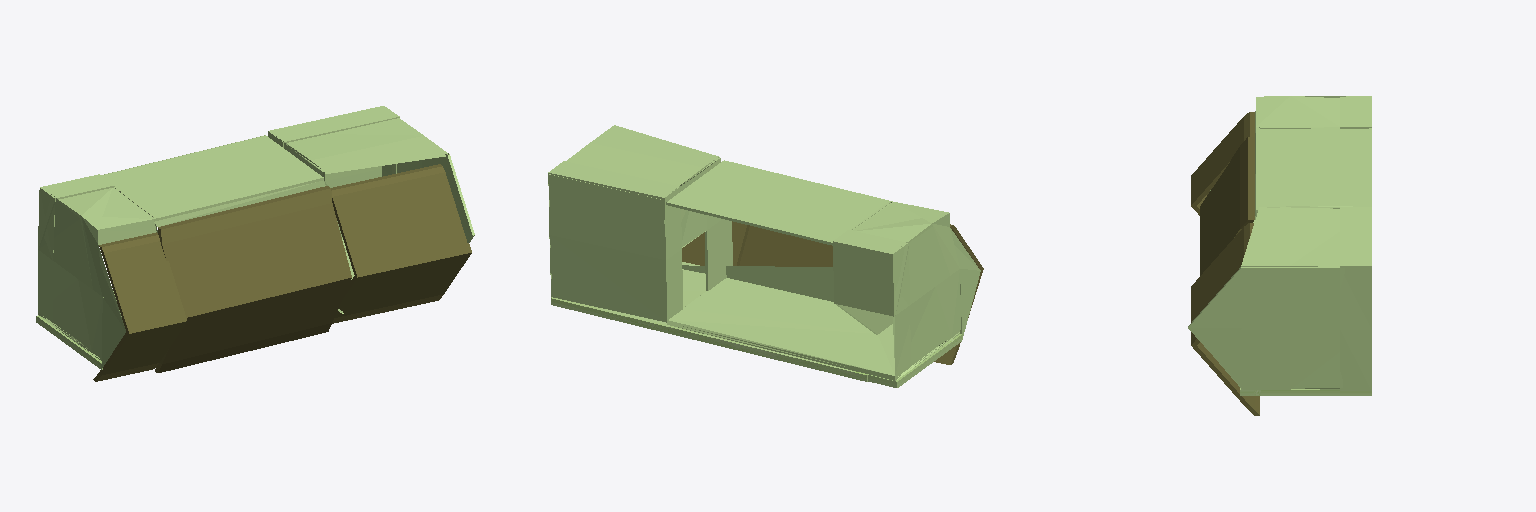
3 renders of one model, left to right at view 1: azimuth 30°, elevation 25°; view 2: azimuth 150°, elevation 25°; view 3: azimuth 270°, elevation 25°, orthographic.
Visible parts, largest first — view 1: Object.3; view 2: Object.3; view 3: Object.3.
Part boxes in pixels (bbox=[...]): Object.3: bbox=[36, 106, 474, 381]; Object.3: bbox=[548, 125, 983, 387]; Object.3: bbox=[1188, 96, 1371, 415].
Size of the model in its own units: 110 by 47.15 by 50.27.
3 materials, 2 textured.